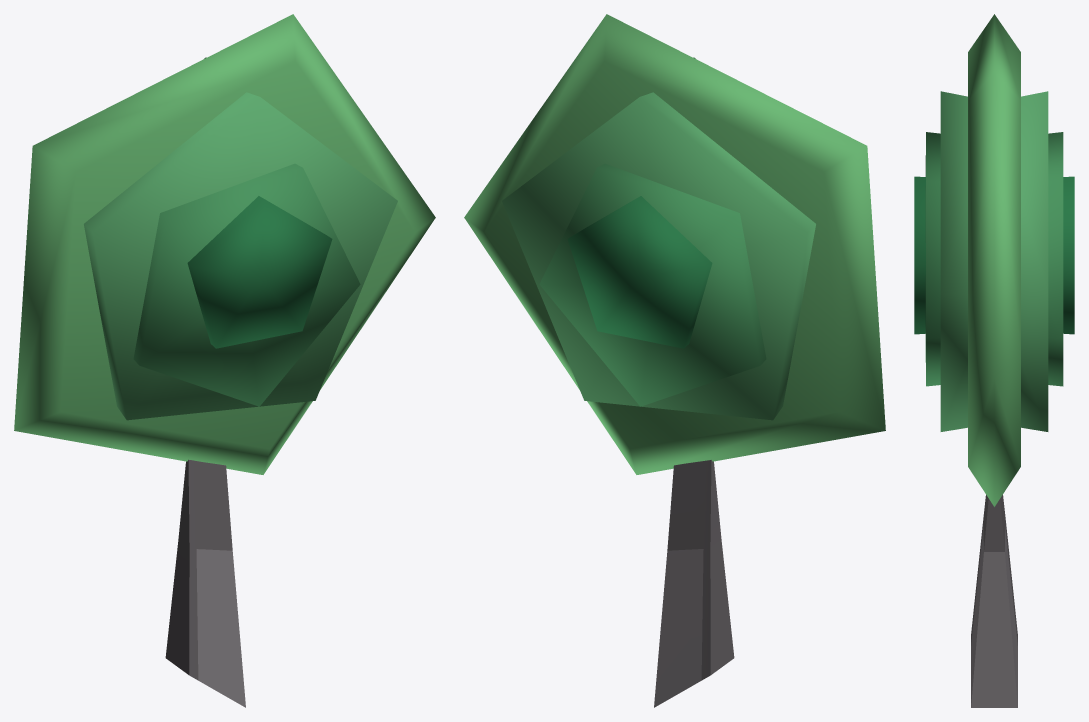
File: treeMeshB.fbx
3 renders of one model, left to right at view 1: azimuth 30°, elevation 25°; view 2: azimuth 150°, elevation 25°; view 3: azimuth 270°, elevation 25°, orthographic.
Parts seen in each view (by area): view 1: crown14; view 2: crown14; view 3: crown14.
Boxes of the visible parts, <box> form: crown14: <box>14,14,435,707</box>; crown14: <box>464,14,885,707</box>; crown14: <box>914,14,1074,707</box>.
Size of the model in its own units: 2.47 by 3.75 by 0.8199.
